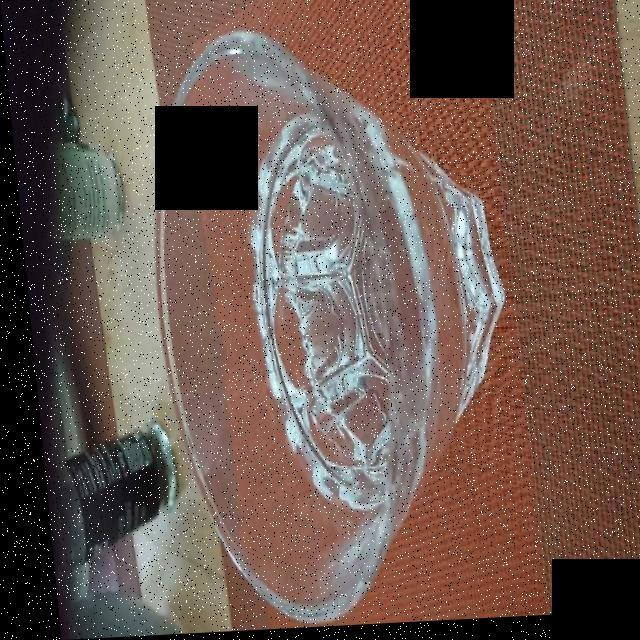water: (259, 101, 492, 504)
